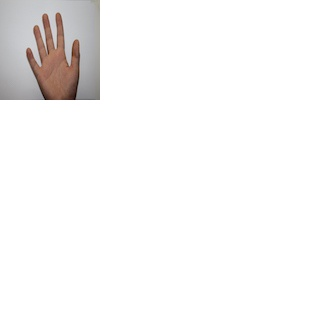paper: (23, 8, 86, 98)
